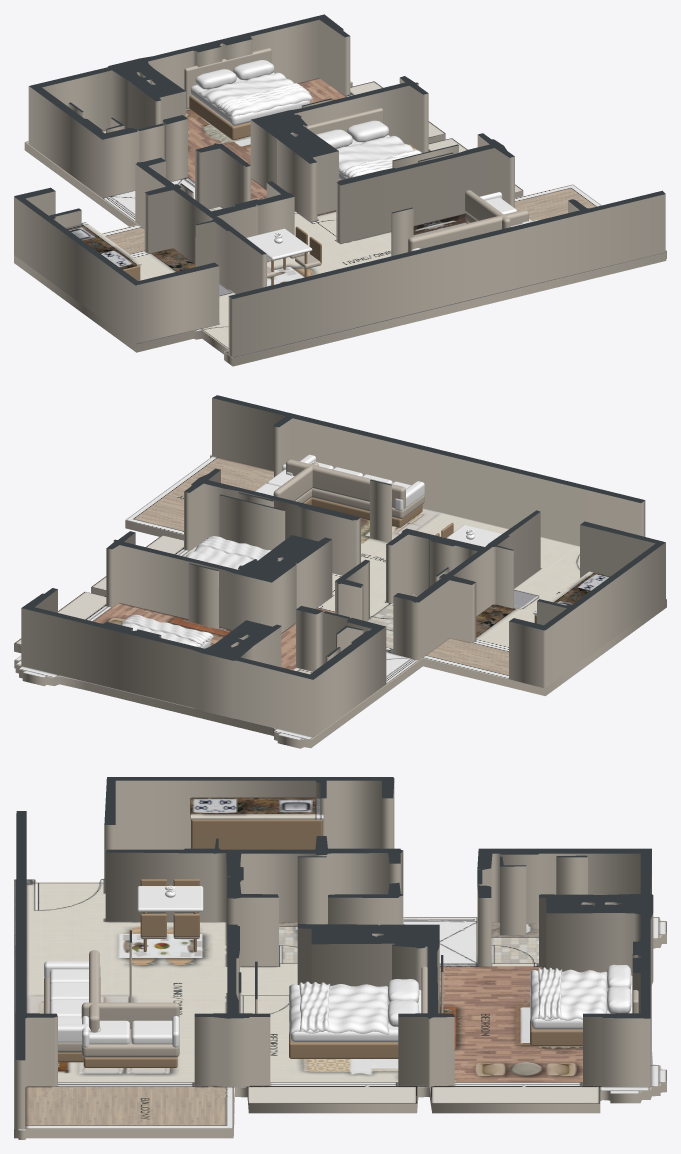
3 renders of one model, top to bottom at view 1: azimuth 30°, elevation 25°; view 2: azimuth 150°, elevation 25°; view 3: azimuth 270°, elevation 25°, orthographic. The views are drawn at different scales.
Parts seen in each view (by area): view 1: Partition walls, Apartment floor, Draped bed linen.002, Sofa back, Draped bed linen, Stone worktop, Marble dining top, Upholstered headboard.001, Piped mattress.001, Walnut upholstered base.001, Draped bed linen.003, Upholstered headboard (+5 smaller); view 2: Partition walls, Apartment floor, Sofa back, Draped bed linen.003, Upholstered sofa frame, Stone worktop, Draped bed linen, Draped bed linen.001, Sofa back.001, Sofa plinth, Marble dining top; view 3: Partition walls, Apartment floor, Kitchen cabinets, Draped bed linen, Stone worktop, Draped bed linen.002, Walnut upholstered base, Sofa back.001, Marble dining top, Draped bed linen.001, Upholstered sofa frame.001, Piped mattress (+16 smaller).
Boxes of the visible parts, x1,y1,x2,y2 form: Partition walls: [14, 14, 665, 357]; Apartment floor: [14, 78, 666, 366]; Draped bed linen.002: [199, 72, 313, 117]; Sofa back: [408, 209, 528, 251]; Draped bed linen: [336, 135, 414, 177]; Stone worktop: [65, 222, 141, 269]; Marble dining top: [246, 228, 312, 260]; Upholstered headboard.001: [184, 48, 271, 108]; Piped mattress.001: [190, 72, 309, 125]; Walnut upholstered base.001: [189, 95, 250, 140]; Draped bed linen.003: [218, 83, 309, 114]; Upholstered headboard: [307, 108, 383, 134]; Partition walls: [21, 395, 665, 737]; Apartment floor: [14, 454, 666, 748]; Sofa back: [286, 459, 405, 508]; Draped bed linen.003: [120, 614, 210, 645]; Upholstered sofa frame: [311, 488, 424, 519]; Stone worktop: [533, 571, 609, 614]; Draped bed linen: [185, 536, 271, 569]; Draped bed linen.001: [196, 536, 270, 560]; Sofa back.001: [273, 462, 318, 500]; Sofa plinth: [311, 497, 422, 527]; Marble dining top: [446, 525, 501, 546]; Partition walls: [15, 777, 653, 1128]; Apartment floor: [14, 878, 666, 1139]; Kitchen cabinets: [191, 819, 322, 849]; Draped bed linen: [289, 983, 389, 1034]; Stone worktop: [190, 797, 323, 819]; Draped bed linen.002: [530, 969, 607, 1020]; Walnut upholstered base: [289, 1034, 398, 1058]; Sofa back.001: [81, 1002, 179, 1028]; Marble dining top: [137, 886, 203, 911]; Draped bed linen.001: [299, 981, 330, 1032]; Upholstered sofa frame.001: [81, 1028, 179, 1057]; Piped mattress: [290, 989, 421, 1042].
Size of the model in its own units: 10.12 by 1.3 by 9.82.
10 materials, 1 textured.
